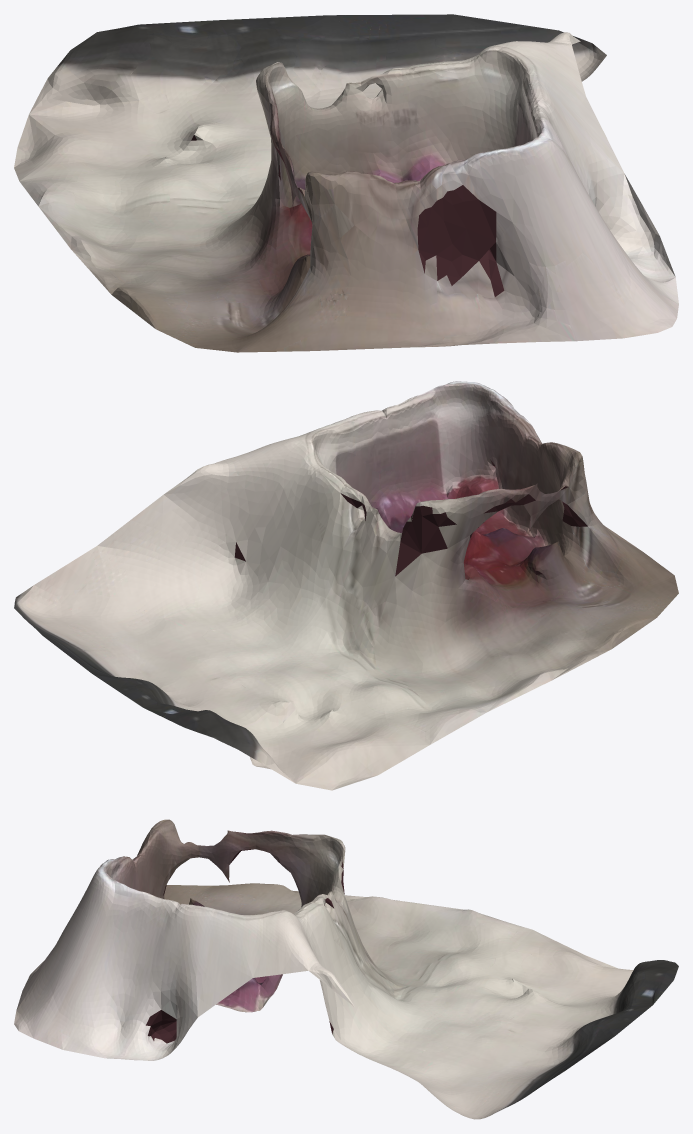
3 renders of one model, top to bottom at view 1: azimuth 30°, elevation 25°; view 2: azimuth 150°, elevation 25°; view 3: azimuth 270°, elevation 25°, orthographic. The views are drawn at different scales.
Parts seen in each view (by area): view 1: Node; view 2: Node; view 3: Node.
Part boxes in pixels (x1=…): Node: x1=14, y1=14, x2=678, y2=352; Node: x1=14, y1=381, x2=678, y2=790; Node: x1=14, y1=819, x2=678, y2=1119.
Size of the model in its own units: 0.2807 by 0.0927 by 0.3434.
1 material, 1 textured.
